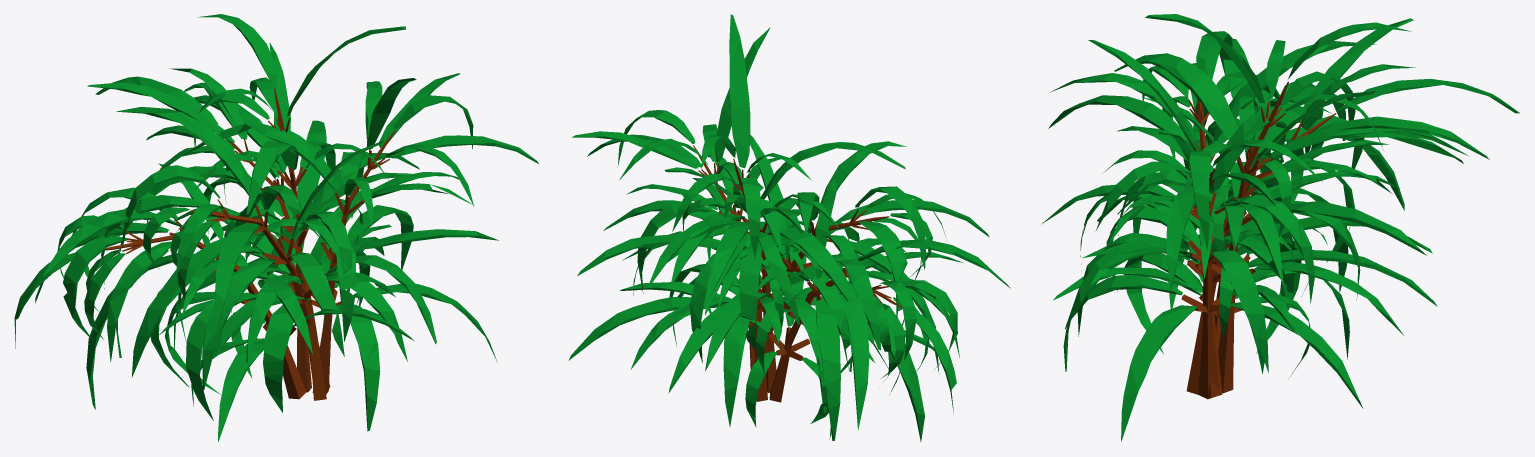
Rendered from ShrubDraca05.fbx.
The picture shows the model from 3 angles, left to right: view 1: azimuth 30°, elevation 25°; view 2: azimuth 150°, elevation 25°; view 3: azimuth 270°, elevation 25°; orthographic projection. The views are drawn at different scales.
Visible parts, largest first — view 1: ShrubDraca05_LOD0; view 2: ShrubDraca05_LOD0; view 3: ShrubDraca05_LOD0.
Part boxes in pixels (x1,y1,x2,y2): ShrubDraca05_LOD0: (14,14,538,442); ShrubDraca05_LOD0: (568,14,1010,441); ShrubDraca05_LOD0: (1041,14,1519,441).
Size of what is drawn, in the model's own units: 153 by 116 by 121.
